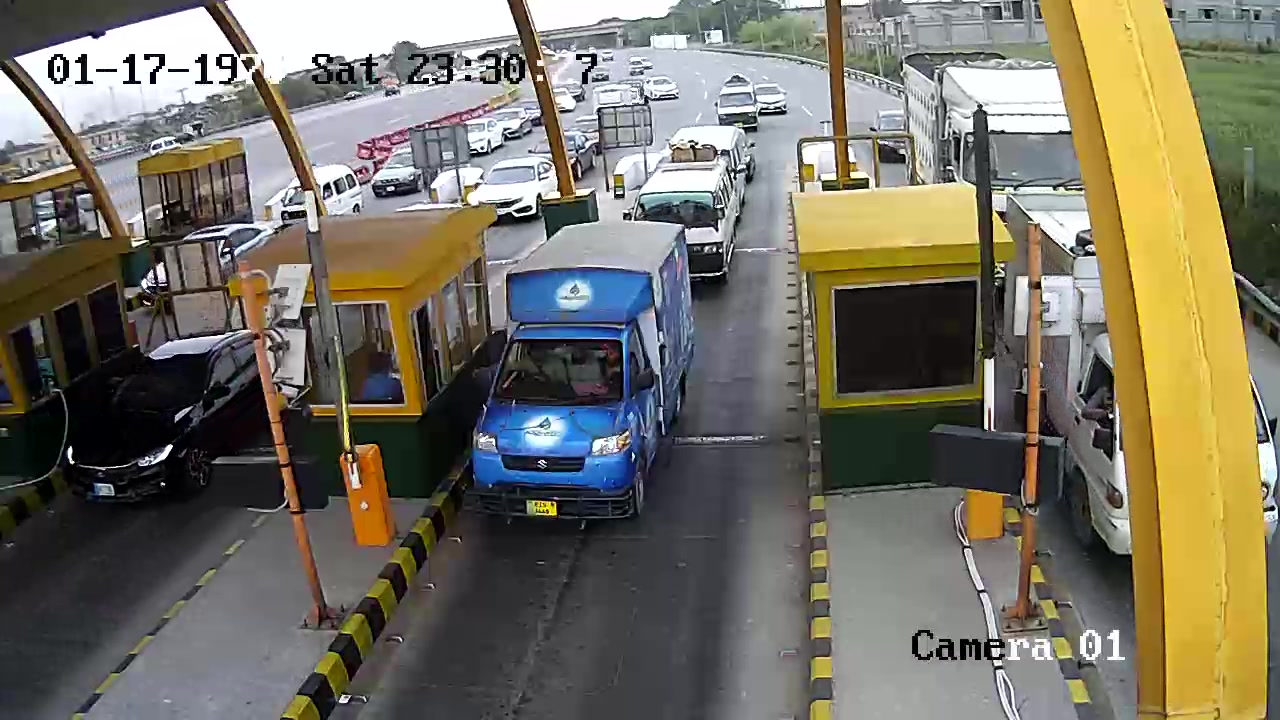F2: (469, 218, 698, 524)
